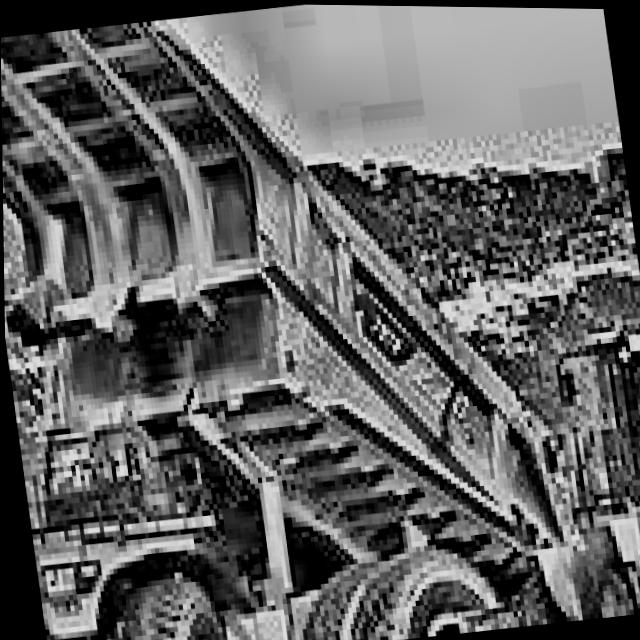dump_truck: (0, 0, 584, 640)
